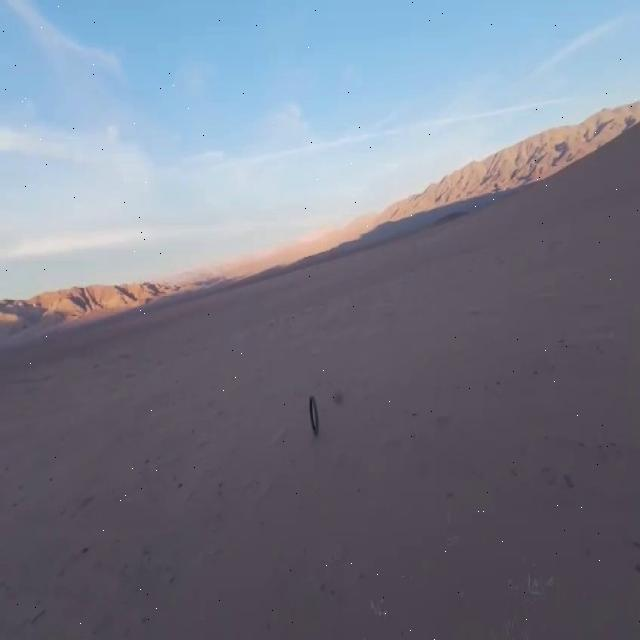Tire: (309, 395, 319, 434)
